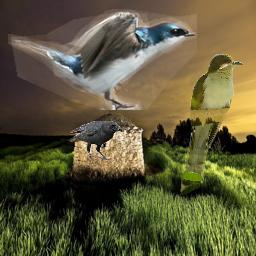Crow: (67, 121, 124, 160)
Cuckoo: (180, 54, 243, 195)
Swallow: (8, 9, 197, 110)
